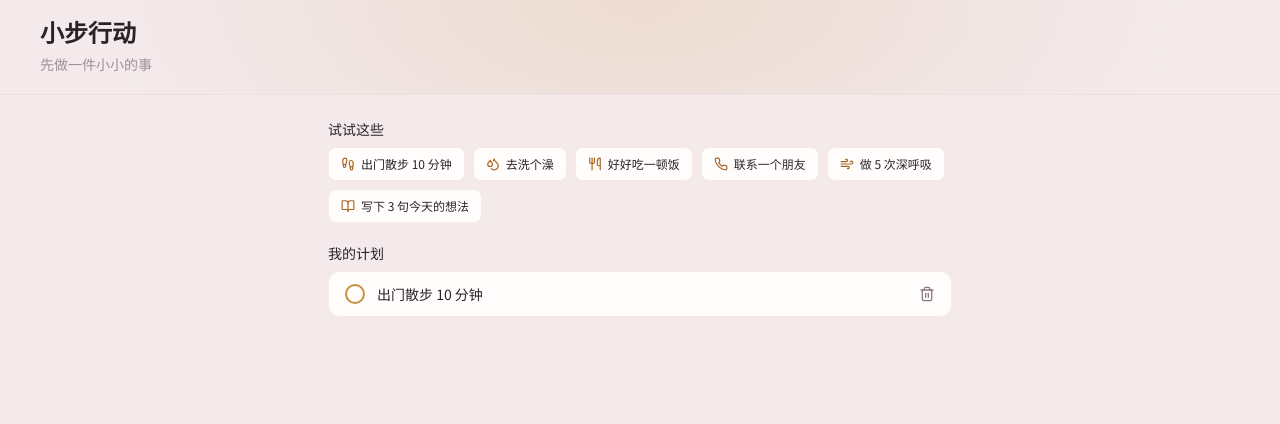
it: SmallSteps › removes an item when its delete button is clicked
The image size is (1280, 424).
Click the button named "删除：出门散步 10 分钟": [927, 294] box [919,286,935,302]
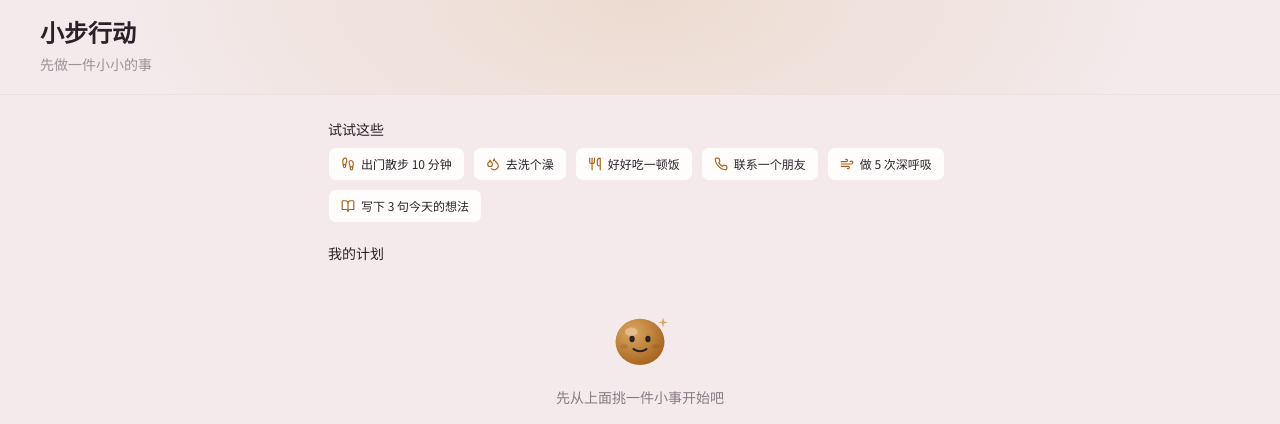
Check: the text "先从上面挑一件小事开始吧" is shown, box [556,387,724,407]
